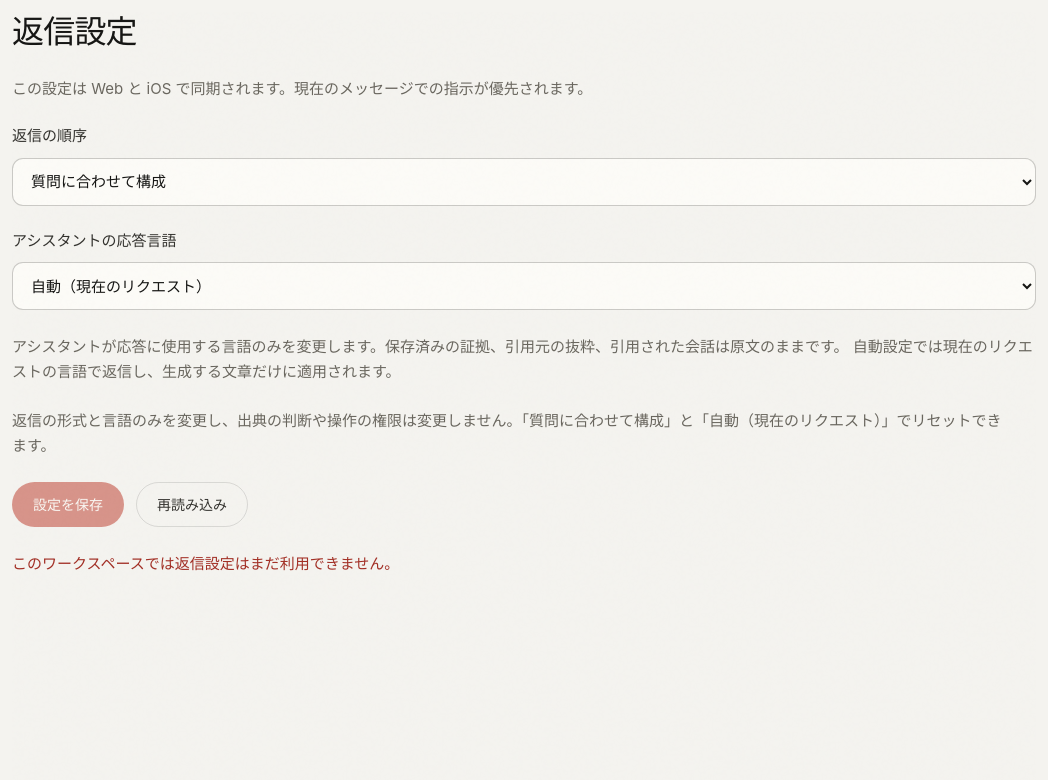
it: localizes disabled-workspace and network errors in ja
Expected: the message "このワークスペースでは返信設定はまだ利用できません。" is shown, [12,554,399,573]
Click the button "再読み込み".
click(192, 504)  # box [136,482,248,527]
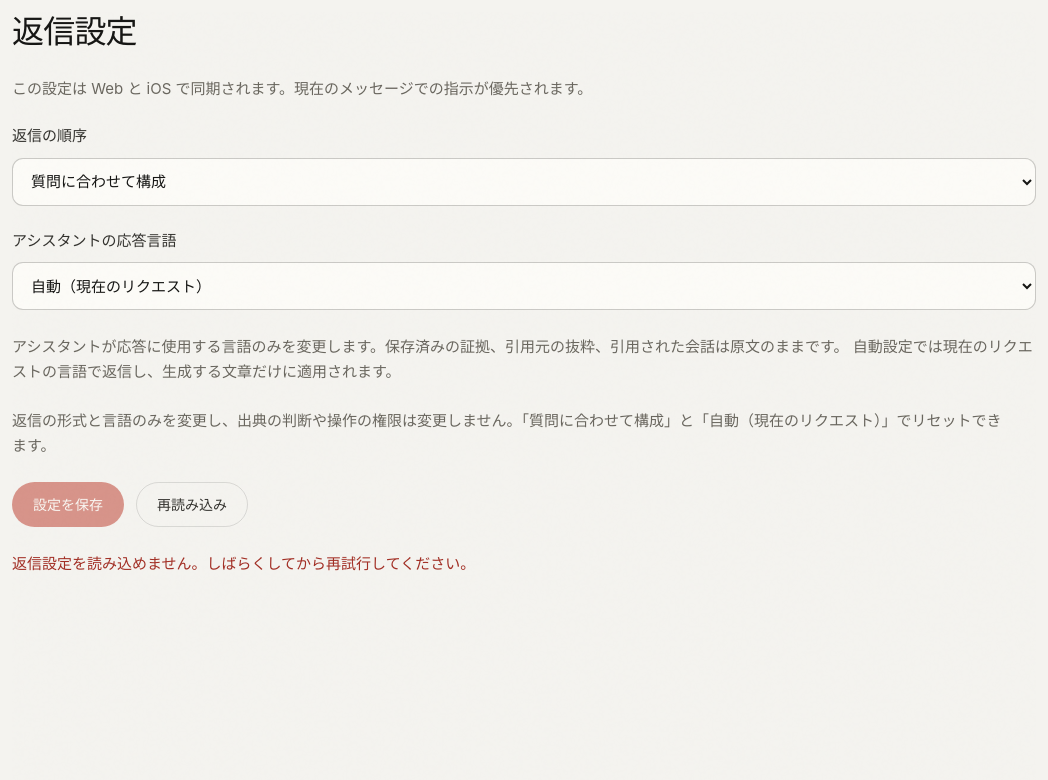
Result: the message "返信設定を読み込めません。しばらくしてから再試行してください。" is shown at [12,554,475,573]
